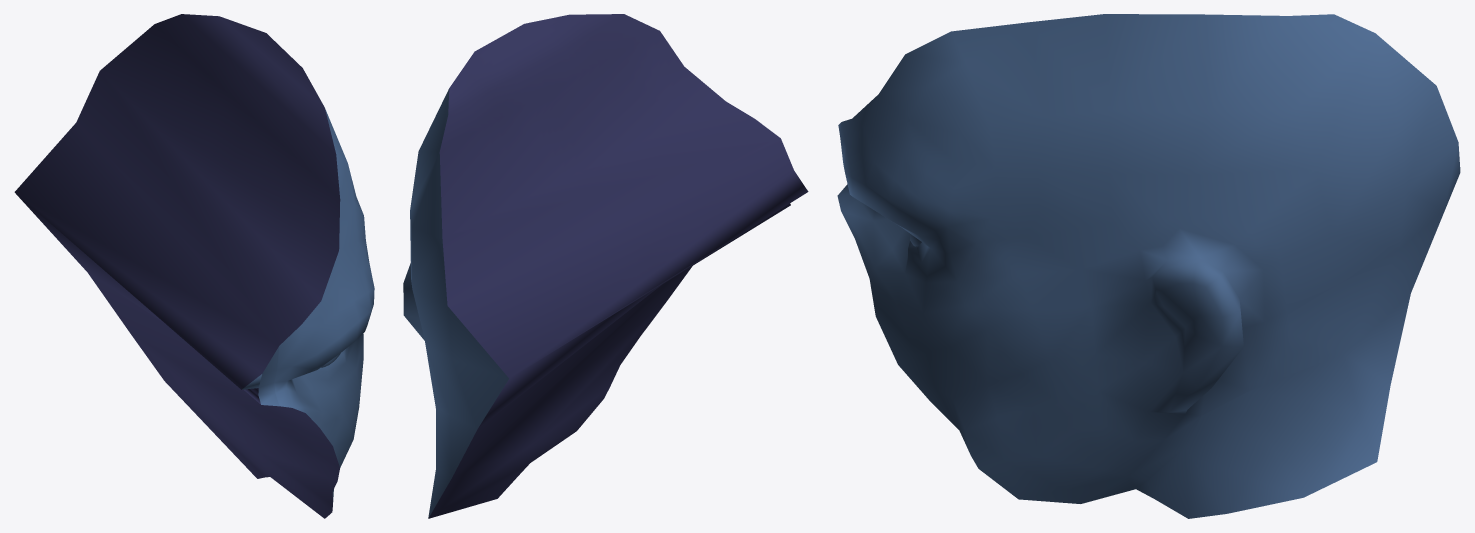
File: Z_Head.002.fbx
3 renders of one model, left to right at view 1: azimuth 30°, elevation 25°; view 2: azimuth 150°, elevation 25°; view 3: azimuth 270°, elevation 25°, orthographic. The views are drawn at different scales.
Parts seen in each view (by area): view 1: Z_Head.002; view 2: Z_Head.002; view 3: Z_Head.002.
Boxes of the visible parts, bbox=[...] form: Z_Head.002: bbox=[14, 14, 374, 518]; Z_Head.002: bbox=[403, 14, 808, 518]; Z_Head.002: bbox=[837, 14, 1460, 518].
Size of the model in its own units: 1018 by 1828 by 2010.
